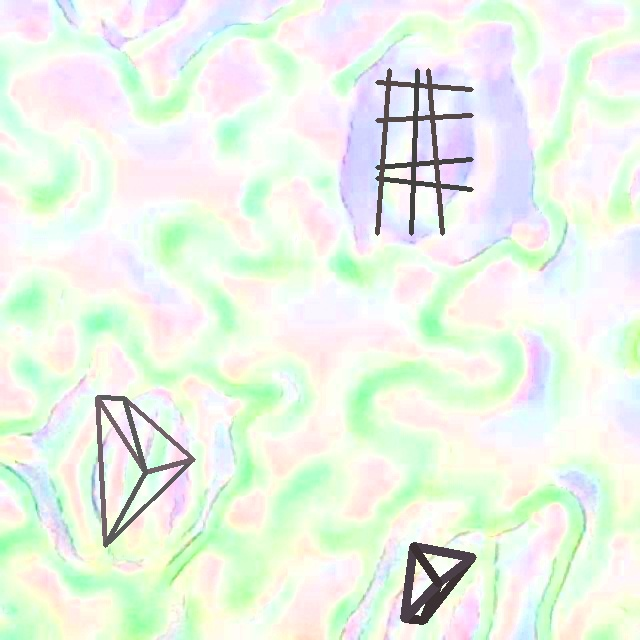open: (375, 68, 473, 235), (95, 396, 195, 547), (400, 542, 476, 624)
